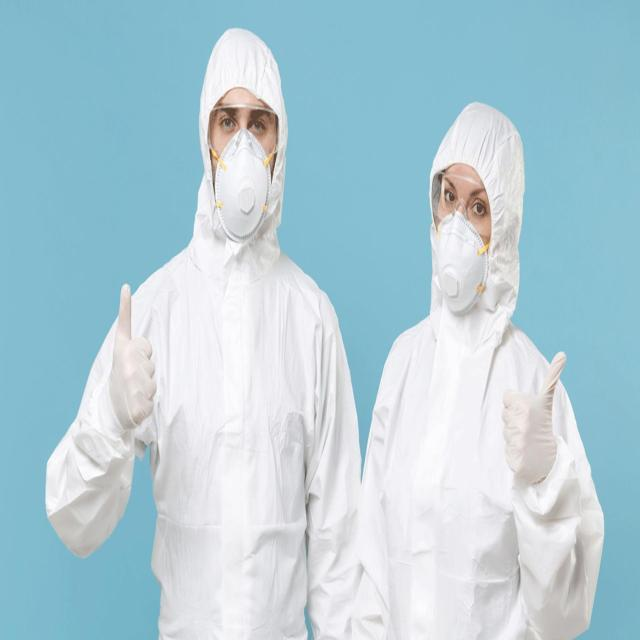Coverall: (68, 9, 340, 633), (385, 57, 593, 640)
Gloves: (87, 243, 177, 444), (494, 315, 582, 498)
Mask: (206, 132, 293, 249), (413, 203, 482, 300)
